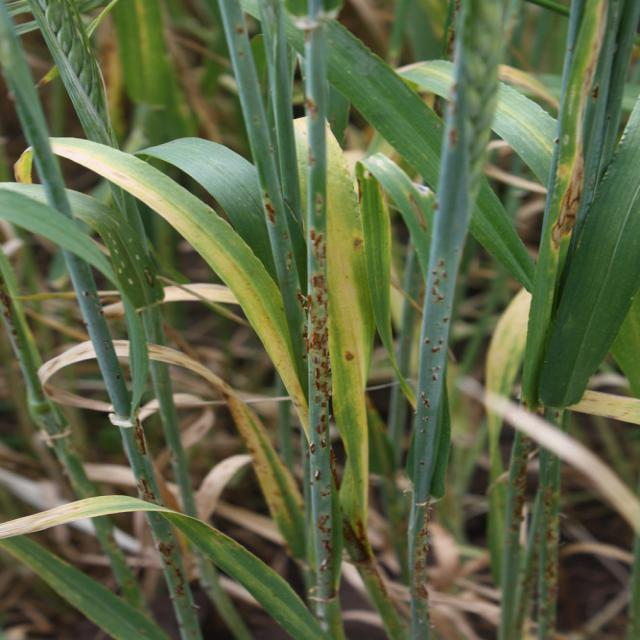Stem_Rust: (268, 199, 356, 615), (526, 102, 585, 640), (398, 255, 460, 640), (105, 412, 200, 640)
